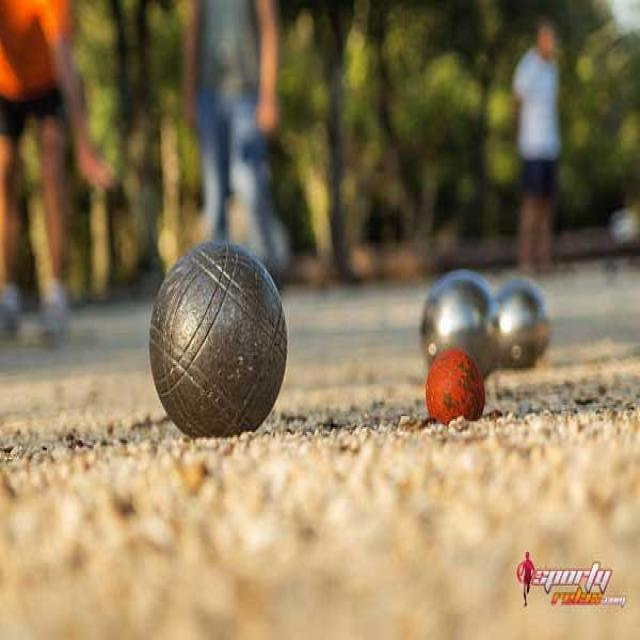hatball: (421, 342, 490, 438)
petanque: (144, 235, 292, 446), (414, 267, 501, 377)
